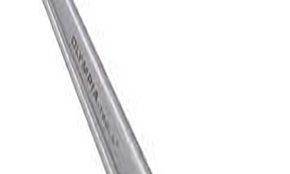Wrench: (41, 1, 165, 174)
